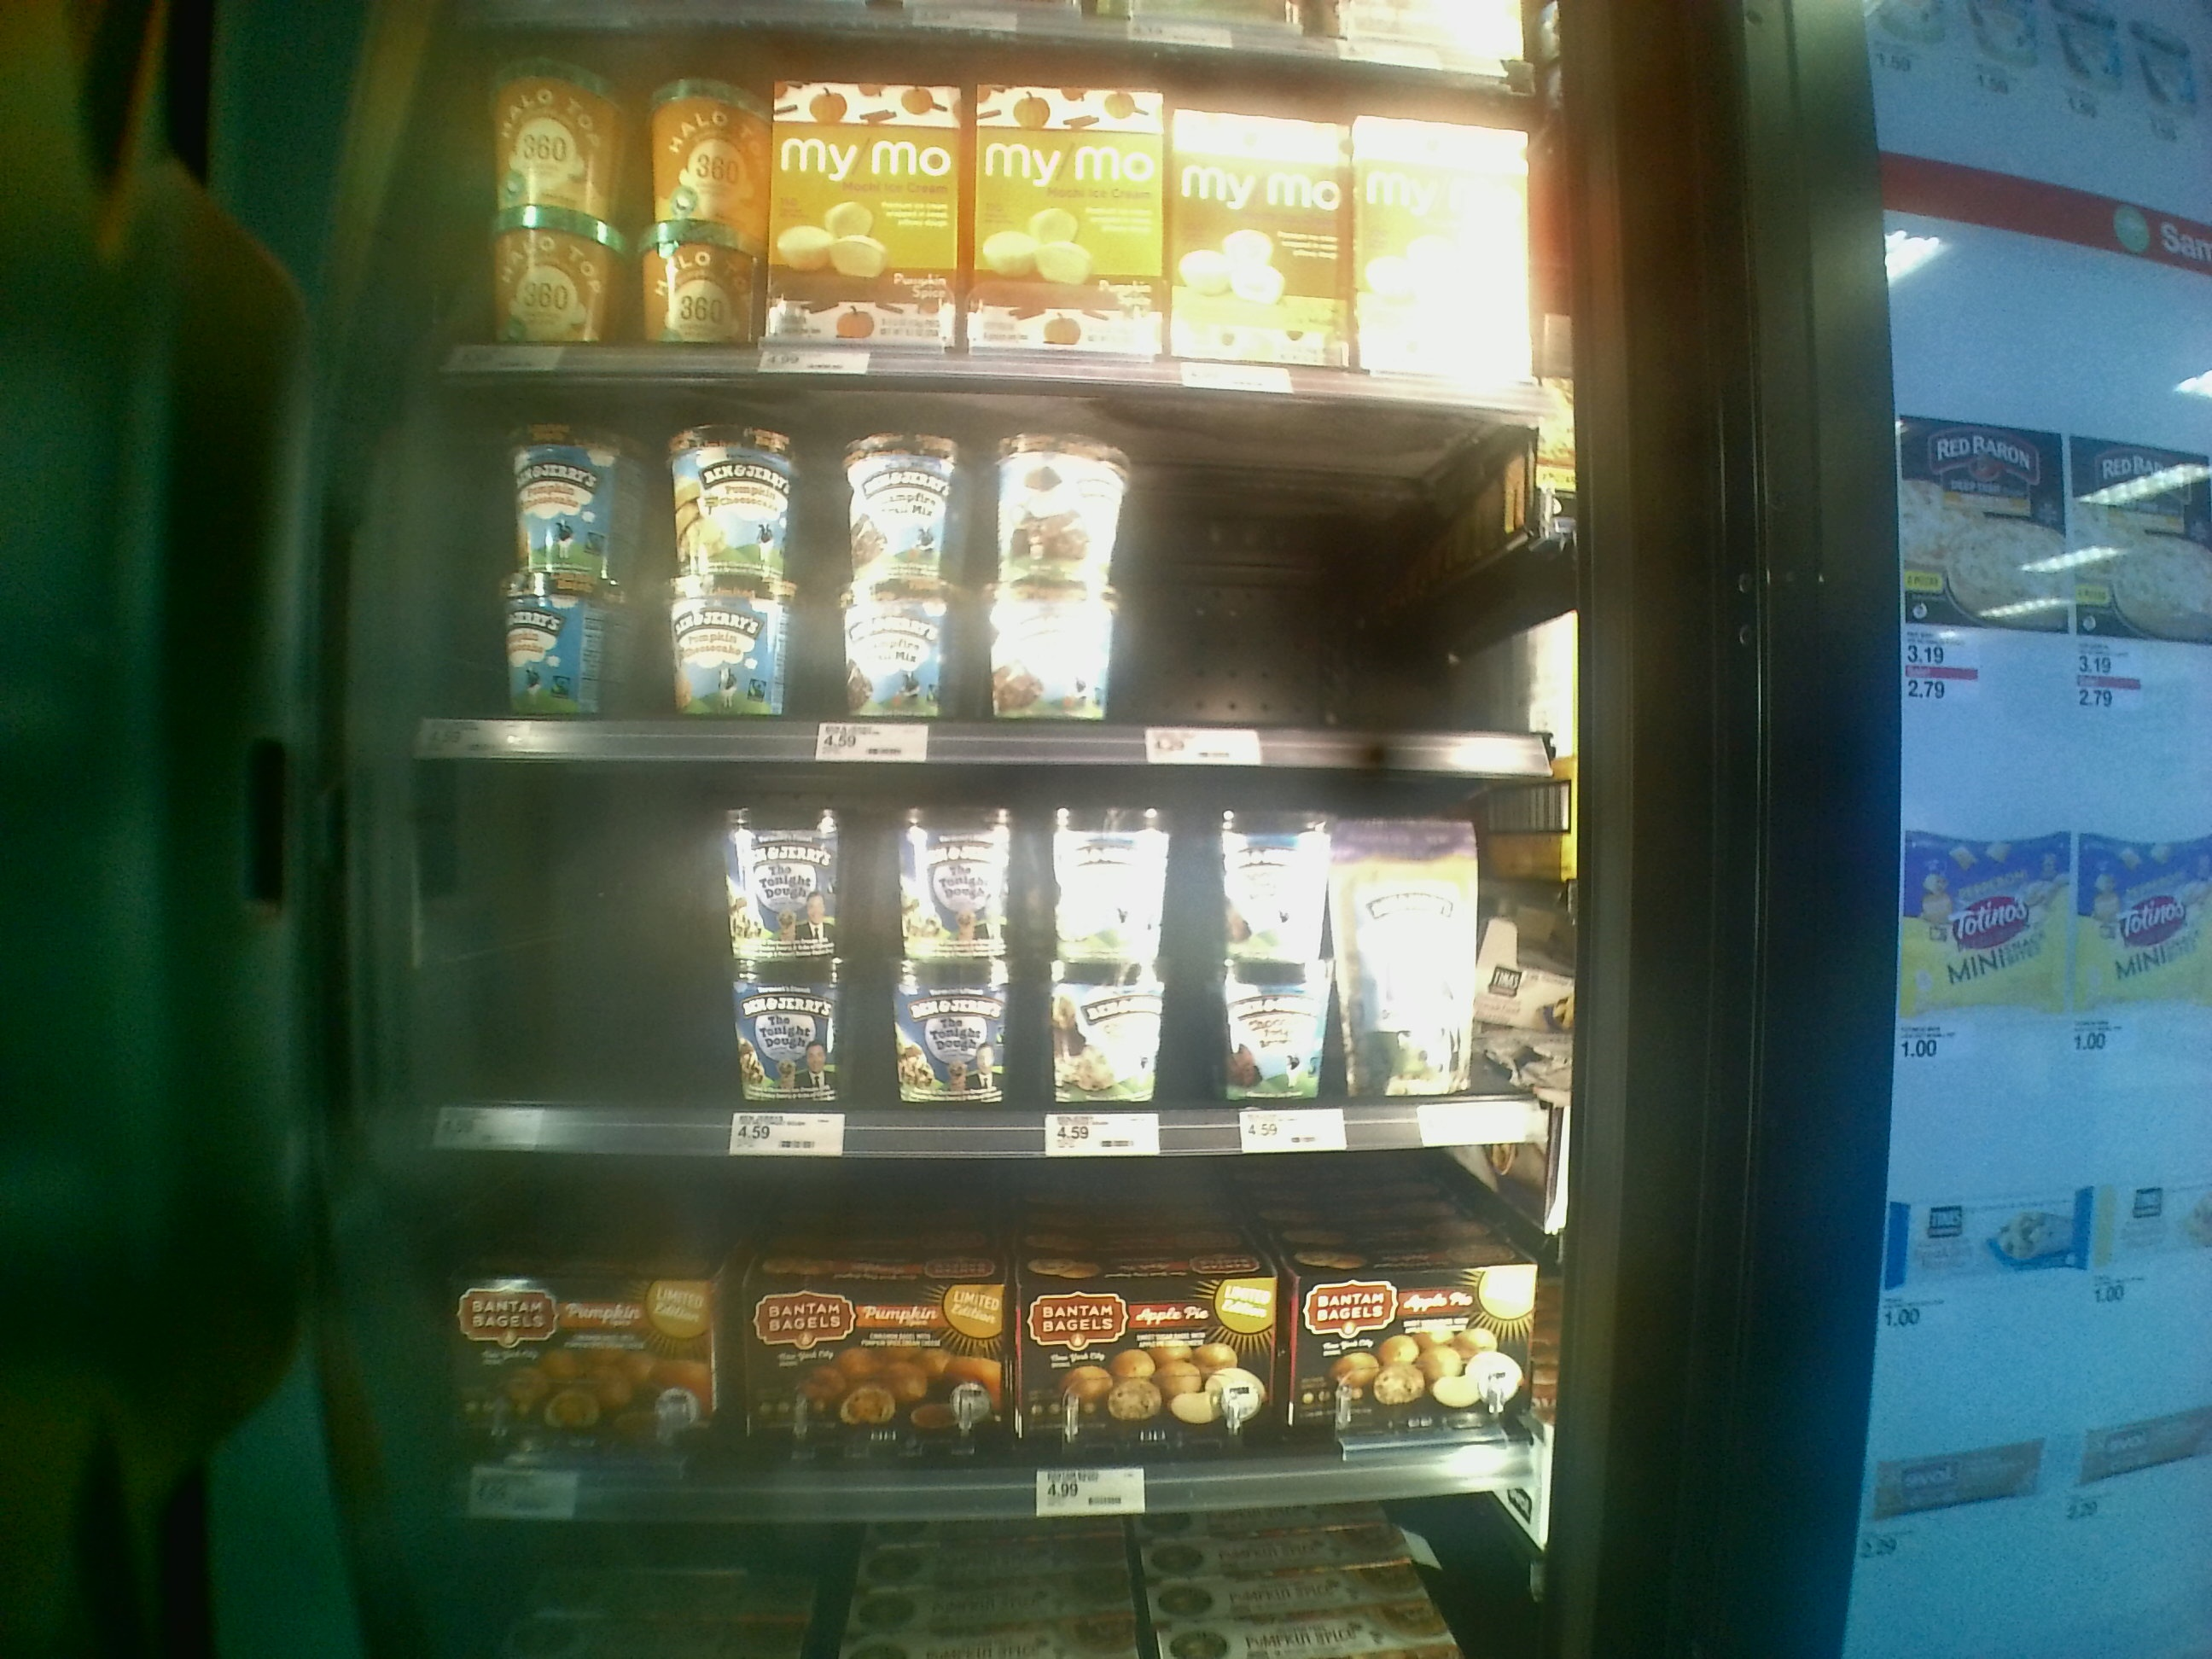shelf: (394, 364, 1587, 786), (397, 755, 1566, 1154), (392, 1143, 1545, 1502)
